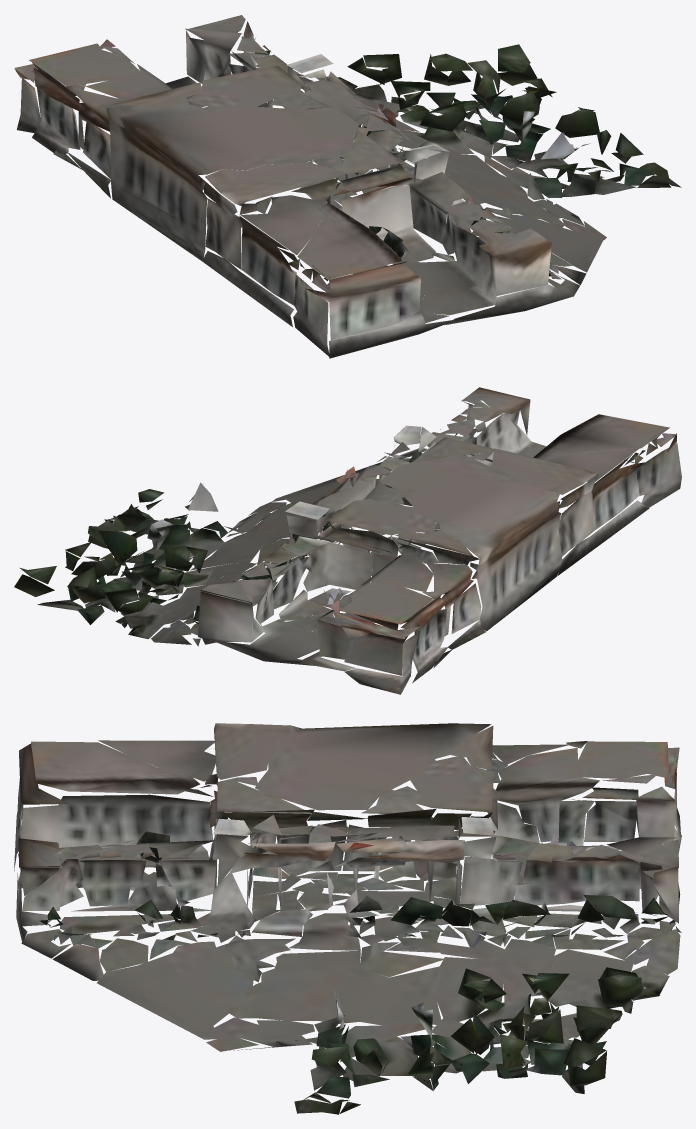
Rendered from preview.glb.
The picture shows the model from 3 angles, top to bottom: view 1: azimuth 30°, elevation 25°; view 2: azimuth 150°, elevation 25°; view 3: azimuth 270°, elevation 25°; orthographic projection. The views are drawn at different scales.
Parts seen in each view (by area): view 1: national/tripo_node_5b9257e9-5b5b-46aa-884f-2cec54d0434d; view 2: national/tripo_node_5b9257e9-5b5b-46aa-884f-2cec54d0434d; view 3: national/tripo_node_5b9257e9-5b5b-46aa-884f-2cec54d0434d.
Boxes of the visible parts, <box> form: national/tripo_node_5b9257e9-5b5b-46aa-884f-2cec54d0434d: <box>14,15,681,358</box>; national/tripo_node_5b9257e9-5b5b-46aa-884f-2cec54d0434d: <box>14,387,681,694</box>; national/tripo_node_5b9257e9-5b5b-46aa-884f-2cec54d0434d: <box>14,723,681,1114</box>.
Bounding box in the file's own units: 2.83 × 0.7645 × 3.11.
Materials: 1 (1 with a texture image).
